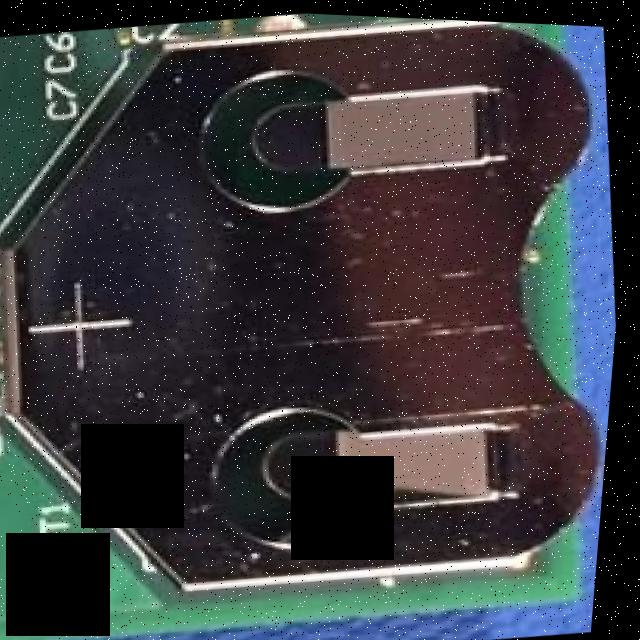battery: (0, 0, 640, 623)
